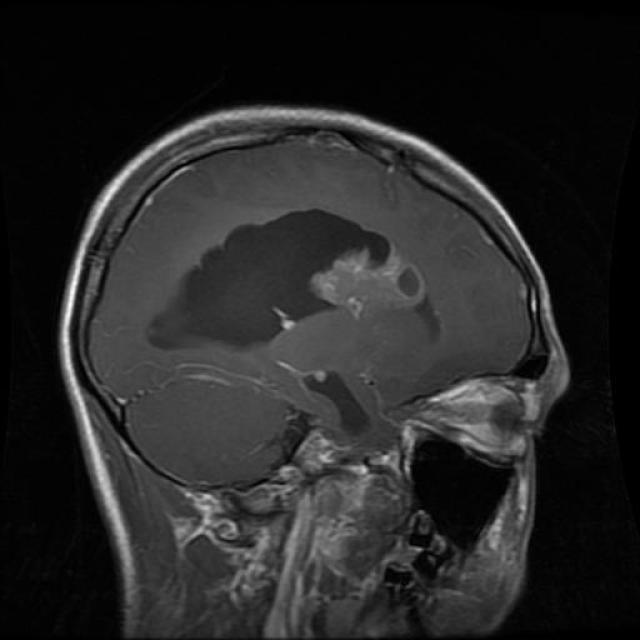glioma: (148, 205, 438, 349)
